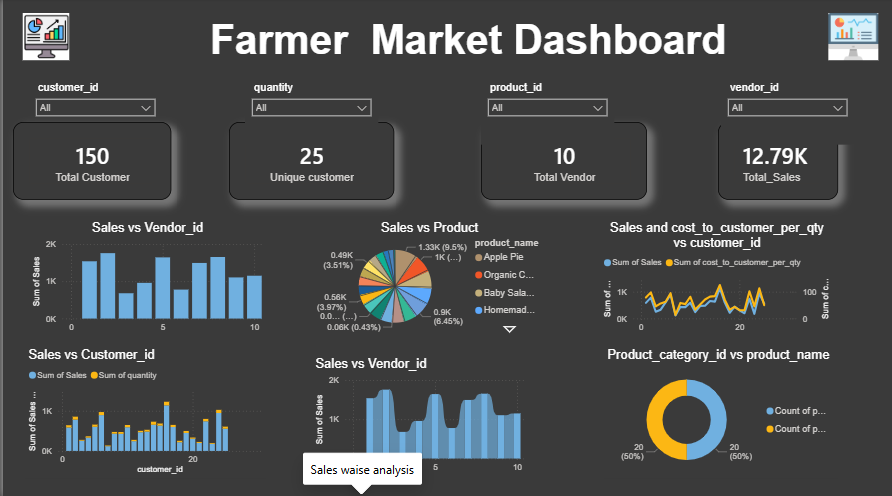

The page's visual inventory and layout, read from the dashboard file:
{"tool":"powerbi","page":{"name":"Sales waise analysis","canvas":[1280,720],"ordinal":1},"visuals":[{"type":"columnChart","title":"Sales vs Customer_id","fields":{"Category":["customer_purchases.customer_id"],"Y":["Sum(customer_purchases.Sales)","Sum(customer_purchases.quantity)"]},"box":[31.7,502.6,347,188.6],"z":0},{"type":"slicer","fields":{"Values":["customer_purchases.customer_id"]},"box":[37.4,115.2,191.5,96.5],"z":1000},{"type":"cardVisual","fields":{"Data":["customer_purchases.Total_Sales"]},"box":[1029.6,178.6,172.8,112.3],"z":2000},{"type":"pieChart","title":"Sales vs Product","fields":{"Category":["dirty_product.product_name"],"Y":["Sum(customer_purchases.Sales)","Sum(customer_purchases.quantity)"]},"box":[445,319.7,338.4,169.9],"z":3000},{"type":"ribbonChart","title":" Sales vs Vendor_id","fields":{"Category":["customer_purchases.vendor_id"],"Y":["Sum(customer_purchases.Sales)"]},"box":[445,515.5,311,175.7],"z":4000},{"type":"columnChart","title":"Sales vs Vendor_id","fields":{"Category":["dirty_vendor.vendor_id"],"Y":["Sum(customer_purchases.Sales)"]},"box":[37.4,319.7,341.3,169.9],"z":5000},{"type":"donutChart","title":" Product_category_id vs product_name","fields":{"Y":["CountNonNull(dirty_product.product_category_id)","CountNonNull(dirty_product.product_name)"]},"box":[865.4,502.6,337,188.6],"z":6000},{"type":"textbox","box":[185.8,21.6,967.7,79.2],"z":7000},{"type":"image","box":[14.4,21.6,95,67.7],"z":8000},{"type":"image","box":[1176.5,21.6,96.5,67.7],"z":9000},{"type":"cardVisual","fields":{"Data":["Count(customer_purchases.vendor_id)"]},"box":[688.3,178.6,239,112.3],"z":10000},{"type":"cardVisual","fields":{"Data":["CountNonNull(customer_purchases.customer_id)"]},"box":[14.4,178.6,227.5,112.3],"z":11000},{"type":"lineChart","title":" Sales and cost_to_customer_per_qty vs customer_id","fields":{"Category":["customer_purchases.customer_id"],"Y":["Sum(customer_purchases.Sales)"],"Y2":["Sum(customer_purchases.cost_to_customer_per_qty)"]},"box":[859.7,319.7,337,169.9],"z":12000},{"type":"cardVisual","fields":{"Data":["Count(customer_purchases.customer_id)"]},"box":[325.4,178.6,237.6,112.3],"z":13000},{"type":"slicer","fields":{"Values":["customer_purchases.quantity"]},"box":[348.5,115.2,191.5,96.5],"z":13001},{"type":"slicer","fields":{"Values":["customer_purchases.vendor_id"]},"box":[1033.9,115.2,191.5,96.5],"z":13004},{"type":"slicer","fields":{"Values":["dirty_product.product_id"]},"box":[688.3,115.2,191.5,96.5],"z":13005}]}

Visuals, with their boxes in screenshot pixels (x1, y1, x2, y2), scaled from the page's 1280x720 canvas onto the 892x496 screenshot:
"Sales vs Customer_id" columnChart: <bbox>22, 346, 264, 476</bbox>
slicer - customer_purchases.customer_id: <bbox>26, 79, 160, 146</bbox>
cardVisual - customer_purchases.Total_Sales: <bbox>718, 123, 838, 200</bbox>
"Sales vs Product" pieChart: <bbox>310, 220, 546, 337</bbox>
" Sales vs Vendor_id" ribbonChart: <bbox>310, 355, 527, 476</bbox>
"Sales vs Vendor_id" columnChart: <bbox>26, 220, 264, 337</bbox>
" Product_category_id vs product_name" donutChart: <bbox>603, 346, 838, 476</bbox>
textbox: <bbox>129, 15, 804, 69</bbox>
image: <bbox>10, 15, 76, 62</bbox>
image: <bbox>820, 15, 887, 62</bbox>
cardVisual - Count(customer_purchases.vendor_id): <bbox>480, 123, 646, 200</bbox>
cardVisual - CountNonNull(customer_purchases.customer_id): <bbox>10, 123, 169, 200</bbox>
" Sales and cost_to_customer_per_qty vs customer_id" lineChart: <bbox>599, 220, 834, 337</bbox>
cardVisual - Count(customer_purchases.customer_id): <bbox>227, 123, 392, 200</bbox>
slicer - customer_purchases.quantity: <bbox>243, 79, 376, 146</bbox>
slicer - customer_purchases.vendor_id: <bbox>720, 79, 854, 146</bbox>
slicer - dirty_product.product_id: <bbox>480, 79, 613, 146</bbox>
